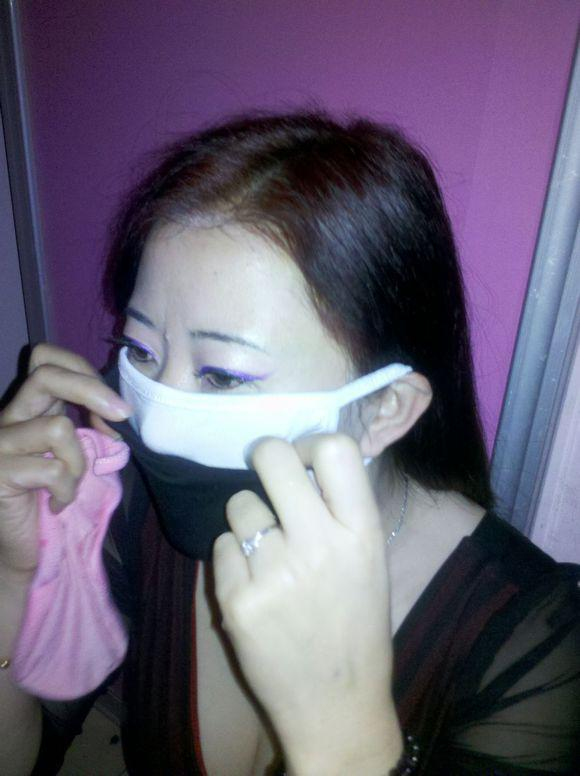OK: (115, 308, 357, 550)
